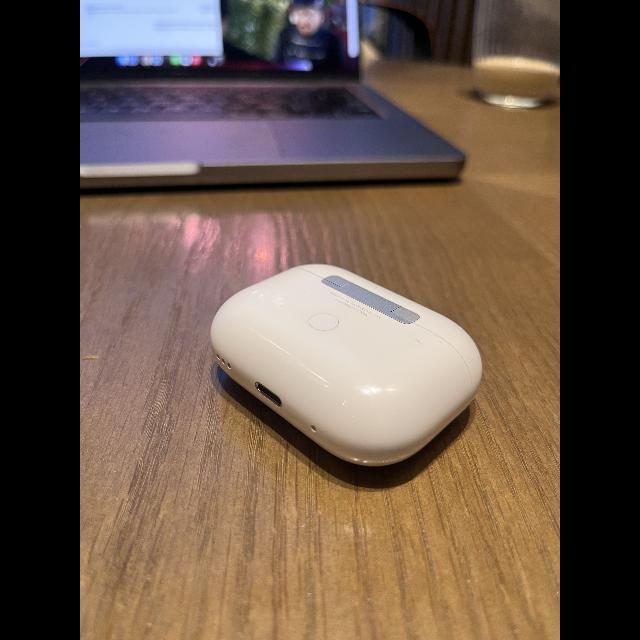AirPods Pro: (212, 262, 480, 490)
